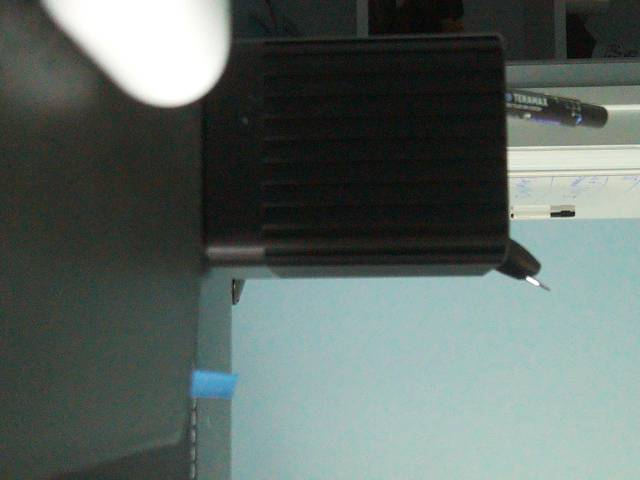boulder: (46, 0, 228, 106), (601, 104, 640, 116)
crater: (515, 0, 640, 125)
shadow: (38, 452, 179, 480)
